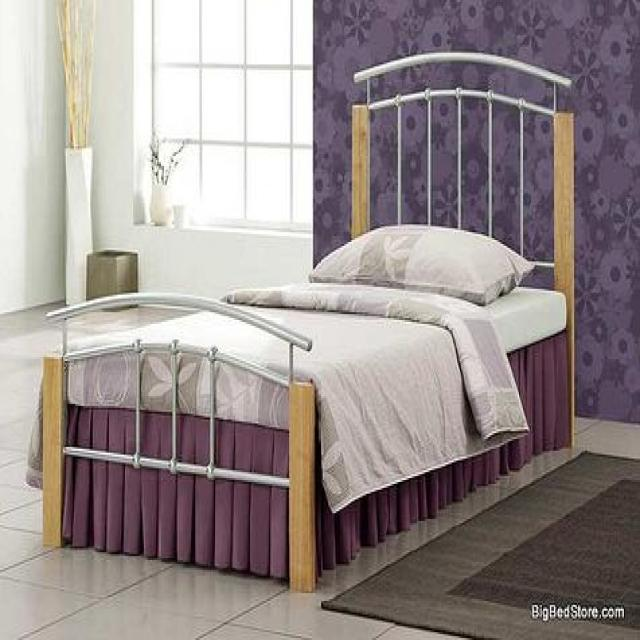bed: (39, 49, 575, 593)
